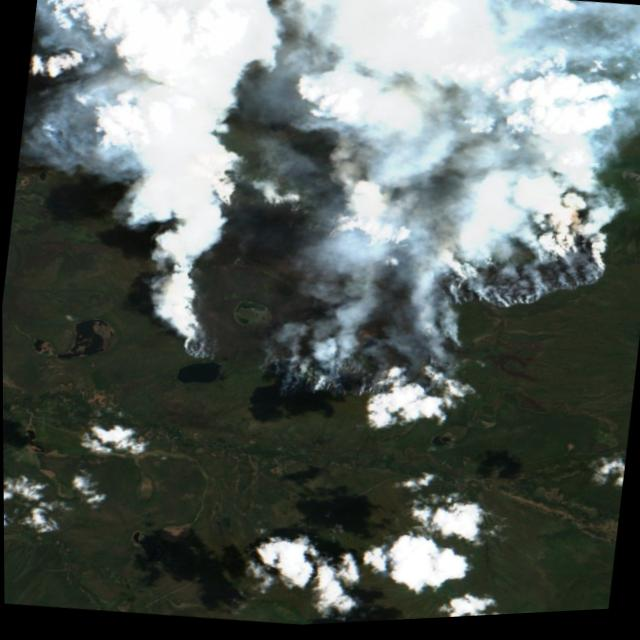fire: (120, 135, 624, 451)
